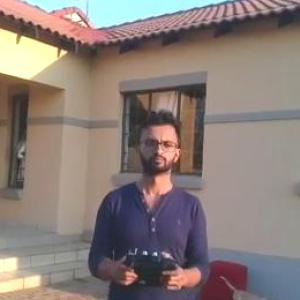follow: (84, 106, 212, 299)
null: (214, 272, 290, 299)
